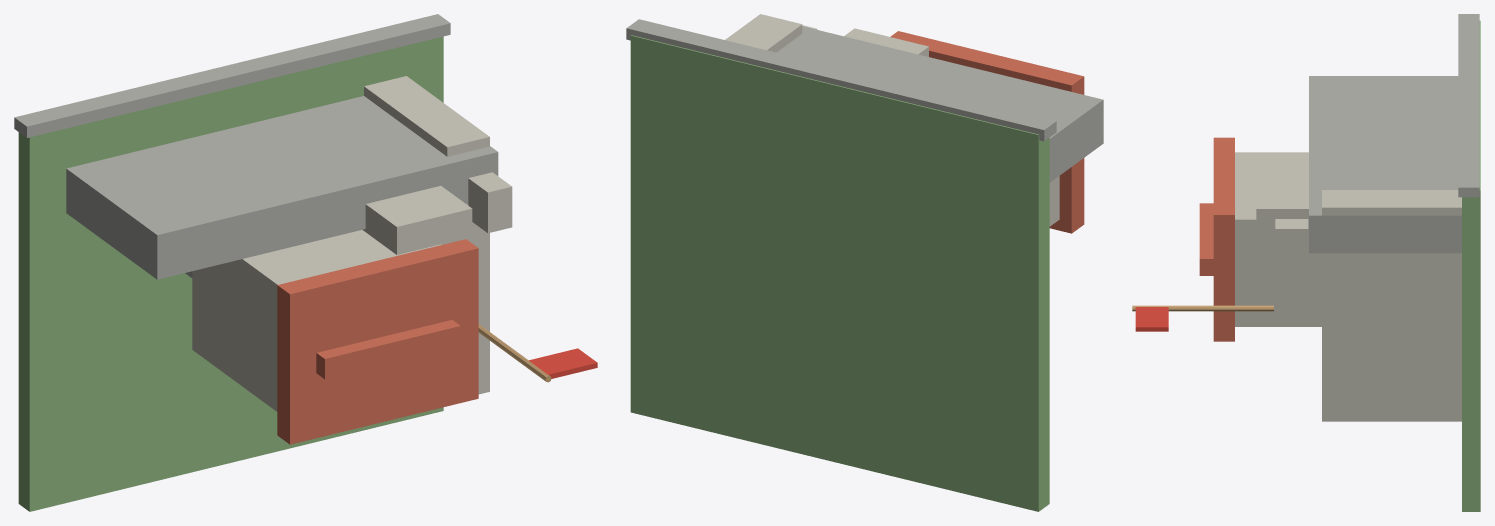
Rendered from 34_DichThanh.glb.
3 renders of one model, left to right at view 1: azimuth 30°, elevation 25°; view 2: azimuth 150°, elevation 25°; view 3: azimuth 270°, elevation 25°, orthographic. The views are drawn at different scales.
Visible parts, largest first — view 1: base, backwall, roof, keep, edge, sidewall, gate_tower, ridge, battlement, flag, pole; view 2: base, backwall, edge, roof, sidewall, gate_tower; view 3: sidewall, backwall, keep, base, gate_tower, roof, edge, battlement, ridge, flag, pole.
Part boxes in pixels (left/top/right/bottom): base: left=18, top=36, right=443, bottom=511; backwall: left=66, top=96, right=498, bottom=279; roof: left=277, top=239, right=478, bottom=444; keep: left=192, top=230, right=441, bottom=411; edge: left=14, top=14, right=450, bottom=137; sidewall: left=364, top=76, right=489, bottom=394; gate_tower: left=362, top=186, right=472, bottom=254; ridge: left=316, top=320, right=460, bottom=379; battlement: left=468, top=172, right=512, bottom=233; flag: left=528, top=348, right=597, bottom=378; pole: left=478, top=324, right=551, bottom=382; base: left=630, top=35, right=1049, bottom=511; backwall: left=777, top=26, right=1103, bottom=182; edge: left=626, top=19, right=1056, bottom=141; roof: left=890, top=31, right=1084, bottom=233; sidewall: left=725, top=14, right=802, bottom=52; gate_tower: left=844, top=28, right=928, bottom=56; sidewall: left=1322, top=190, right=1461, bottom=421; backwall: left=1309, top=76, right=1461, bottom=253; keep: left=1235, top=152, right=1321, bottom=326; base: left=1462, top=20, right=1480, bottom=511; gate_tower: left=1256, top=178, right=1321, bottom=283; roof: left=1213, top=137, right=1234, bottom=341; edge: left=1458, top=14, right=1479, bottom=197; battlement: left=1275, top=219, right=1308, bottom=262; ridge: left=1199, top=203, right=1213, bottom=275; flag: left=1135, top=307, right=1168, bottom=331; pole: left=1132, top=305, right=1273, bottom=311.
Size of the model in its own units: 3.48 by 3.04 by 2.95.
